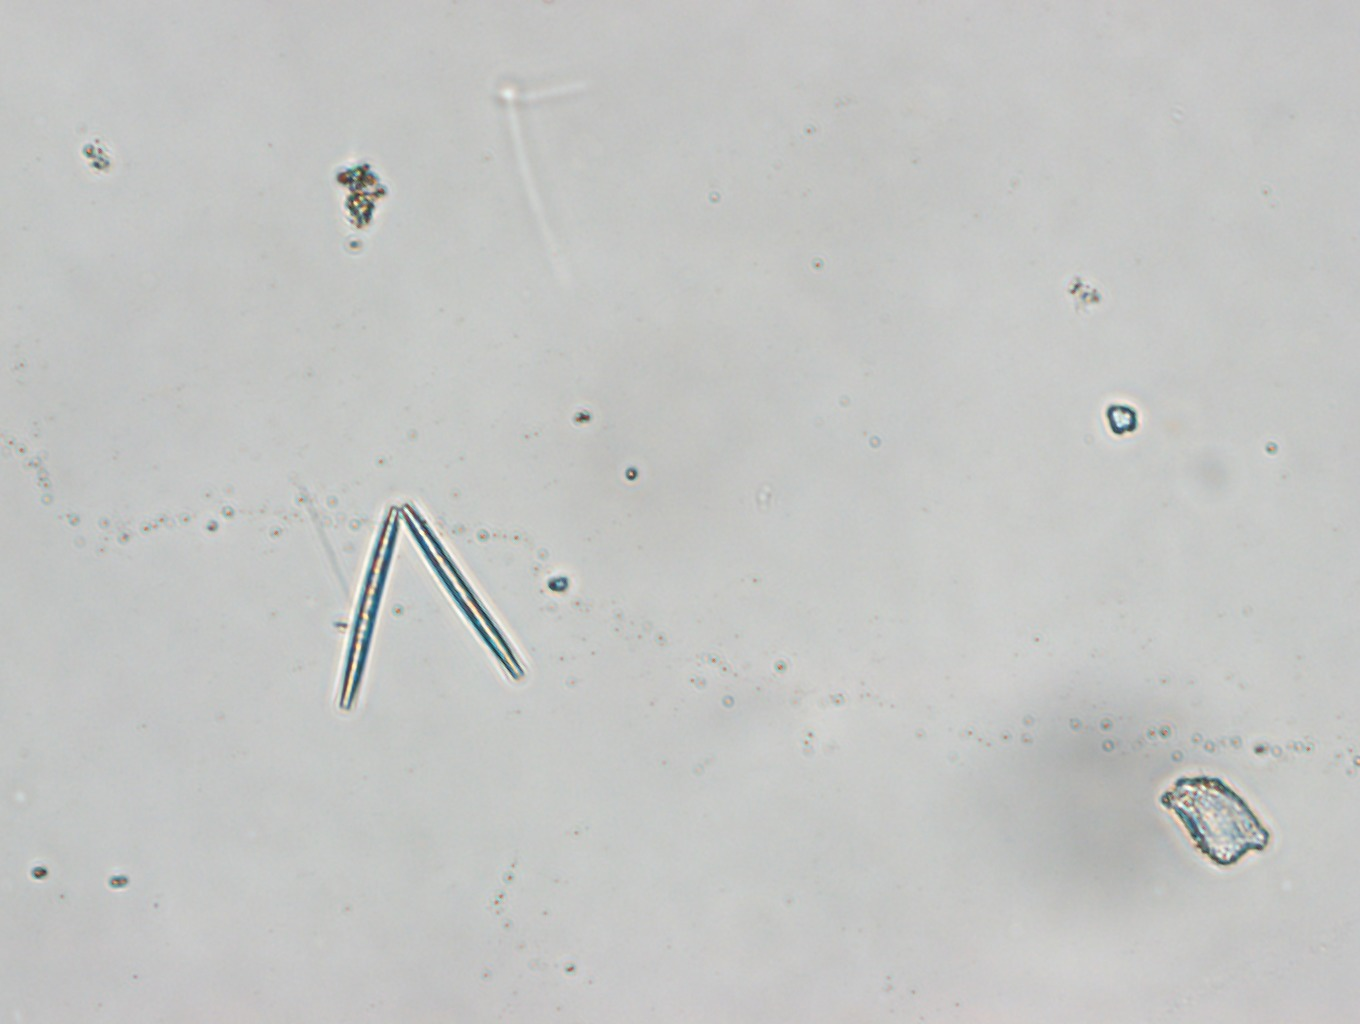thalassionema nitzschioides: (333, 500, 527, 710)
